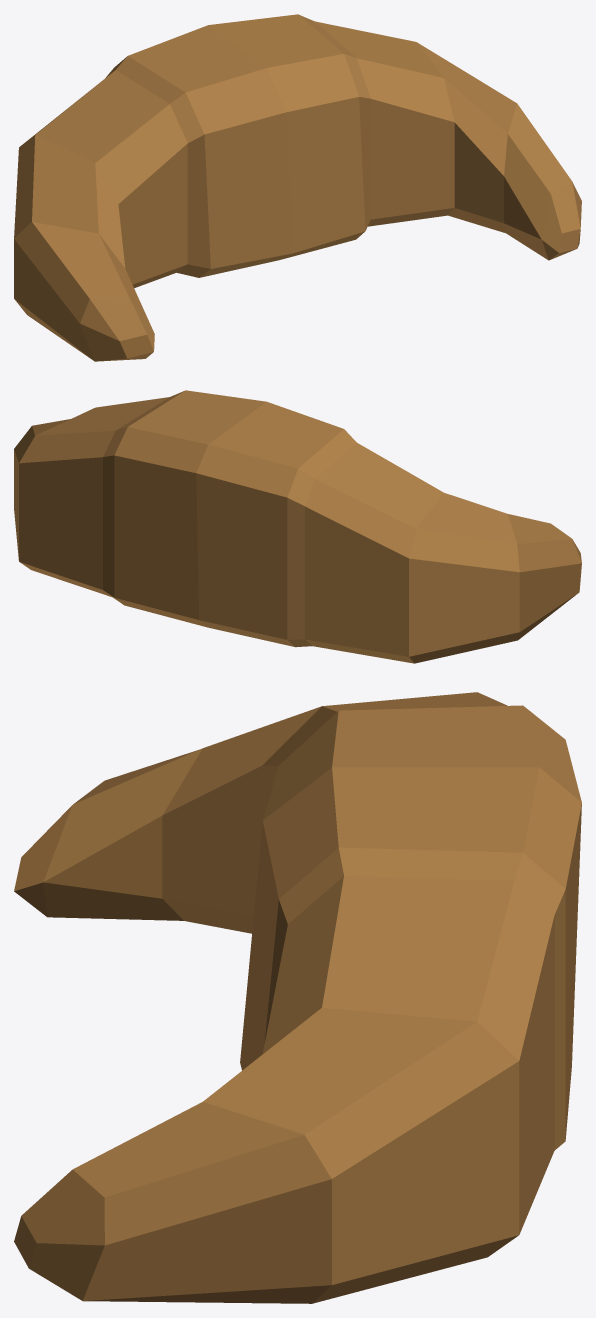
The model's file is croissant_1.fbx.
3 views of the same model, one above another, from view 1: azimuth 30°, elevation 25°; view 2: azimuth 150°, elevation 25°; view 3: azimuth 270°, elevation 25° (orthographic). The views are drawn at different scales.
Parts seen in each view (by area): view 1: croissant_1; view 2: croissant_1; view 3: croissant_1.
Part boxes in pixels (left/top/right/bottom): croissant_1: left=14, top=14, right=581, bottom=361; croissant_1: left=14, top=390, right=581, bottom=663; croissant_1: left=14, top=692, right=581, bottom=1303.
Size of the model in its own units: 15.76 by 5.45 by 8.65.
